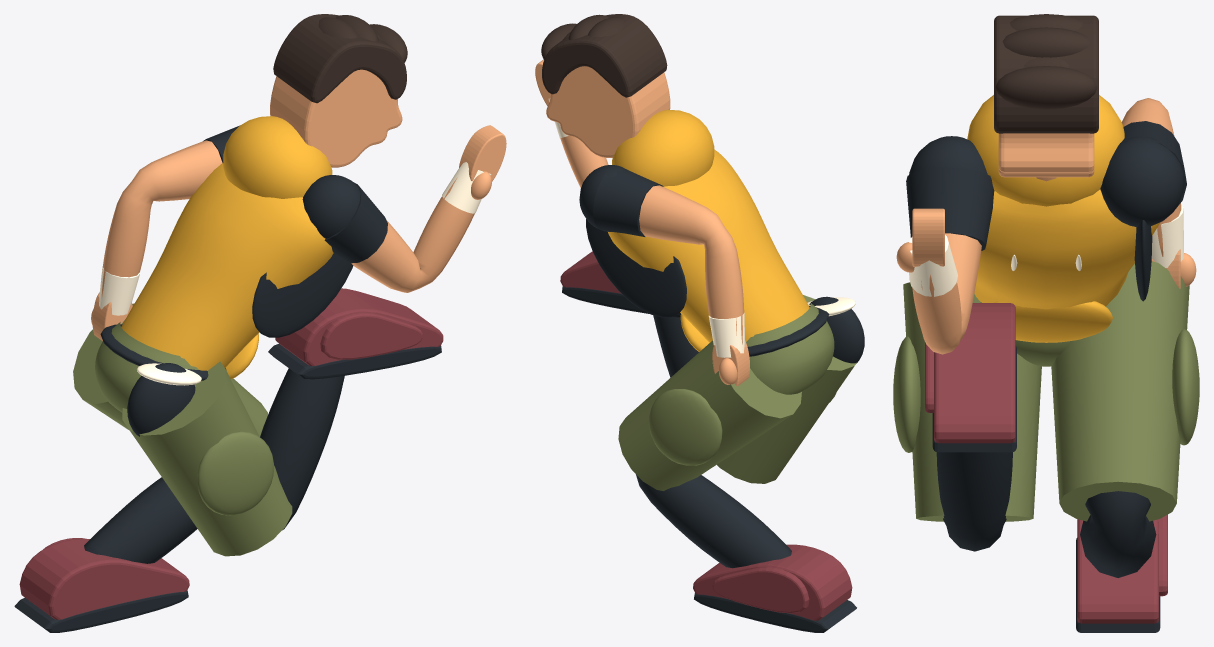
File: skystride-runner.glb
3 views of the same model, side by side, from view 1: azimuth 30°, elevation 25°; view 2: azimuth 150°, elevation 25°; view 3: azimuth 270°, elevation 25° (orthographic). The views are drawn at different scales.
Visible parts, largest first — view 1: Runner_Part_00, Runner_Part_24, Runner_Part_11, Runner_Part_02, Runner_Part_06, Runner_Part_03, Runner_Part_07, Climber_Hood, Runner_Part_05, Runner_Part_08, Cargo_Pocket, Climber_Strap (+15 smaller); view 2: Runner_Part_00, Runner_Part_23, Runner_Part_05, Runner_Part_02, Runner_Part_07, Runner_Part_03, Climber_Hood, Runner_Part_24, Runner_Part_01, Cargo_Pocket, Climber_Strap, Runner_Part_11 (+14 smaller); view 3: Runner_Part_23, Runner_Part_00, Runner_Part_12, Runner_Part_24, Climber_Hair_Tuft (×3), Runner_Part_06, Runner_Part_03, Runner_Part_09, Climber_Hood, Runner_Part_05, Cargo_Pocket (×2), Runner_Part_11 (+16 smaller).
Part boxes in pixels (x1,y1,x2,y2): Runner_Part_00: [121, 163, 333, 370]; Runner_Part_24: [122, 361, 292, 556]; Runner_Part_11: [19, 538, 189, 619]; Runner_Part_02: [270, 69, 402, 167]; Runner_Part_06: [260, 368, 344, 530]; Runner_Part_03: [273, 14, 406, 103]; Runner_Part_07: [100, 140, 222, 298]; Climber_Hood: [223, 116, 332, 198]; Runner_Part_05: [84, 477, 197, 563]; Runner_Part_08: [351, 177, 474, 292]; Cargo_Pocket: [197, 431, 273, 515]; Climber_Strap: [252, 253, 353, 337]; Runner_Part_00: [608, 149, 809, 342]; Runner_Part_23: [618, 340, 801, 490]; Runner_Part_05: [636, 474, 791, 568]; Runner_Part_02: [546, 66, 670, 157]; Runner_Part_07: [639, 185, 744, 344]; Runner_Part_03: [542, 14, 667, 97]; Climber_Hood: [612, 109, 714, 186]; Runner_Part_24: [717, 295, 856, 483]; Runner_Part_01: [746, 303, 834, 394]; Cargo_Pocket: [648, 389, 722, 465]; Climber_Strap: [586, 219, 686, 317]; Runner_Part_11: [693, 544, 852, 620]; Runner_Part_23: [1051, 261, 1189, 521]; Runner_Part_00: [974, 189, 1160, 309]; Runner_Part_12: [934, 303, 1015, 443]; Runner_Part_24: [903, 282, 1041, 521]; Climber_Hair_Tuft (×3): [995, 14, 1097, 109]; Runner_Part_06: [936, 452, 1012, 551]; Runner_Part_03: [994, 15, 1098, 133]; Runner_Part_09: [1100, 136, 1184, 226]; Climber_Hood: [967, 95, 1124, 206]; Runner_Part_05: [1080, 491, 1156, 577]; Cargo_Pocket (×2): [893, 329, 1199, 452]; Runner_Part_11: [1077, 519, 1158, 623].
Bounding box in the file's own units: 1.14 × 1.53 × 0.5992.
